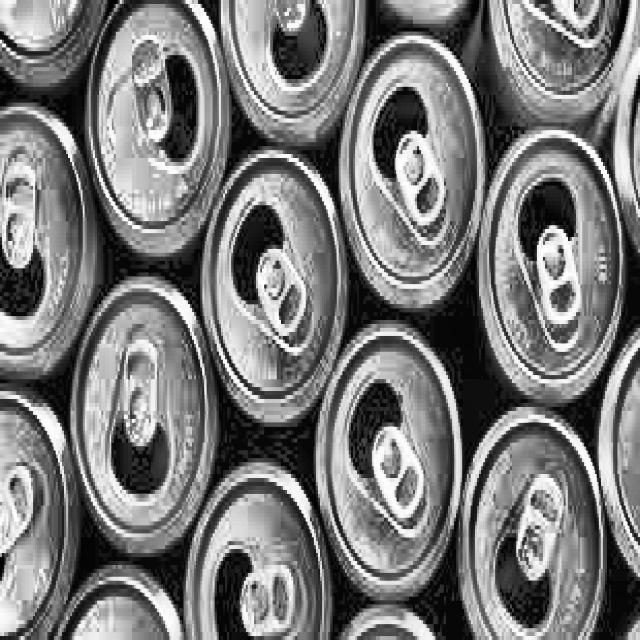can: (66, 266, 222, 566), (198, 139, 352, 433), (473, 128, 629, 409), (310, 325, 467, 601), (79, 0, 234, 276), (337, 32, 488, 314), (452, 407, 605, 640), (176, 452, 333, 640), (0, 97, 99, 386), (221, 0, 369, 155), (0, 373, 81, 640), (481, 0, 640, 122), (42, 557, 192, 640), (596, 321, 640, 586)
